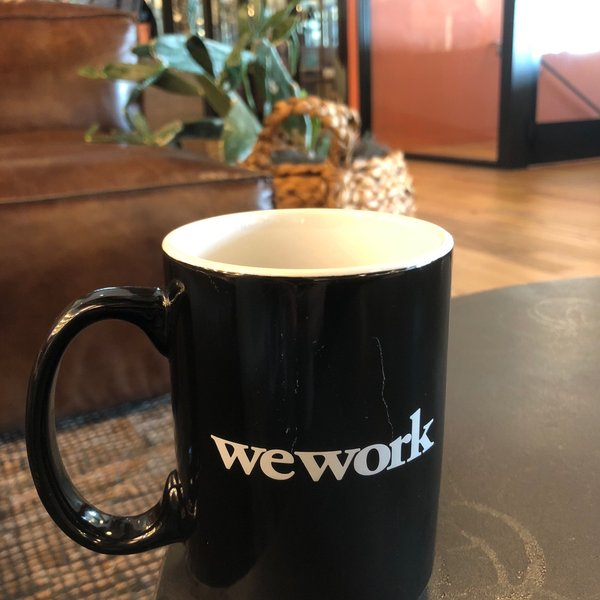wework: (206, 402, 439, 484)
